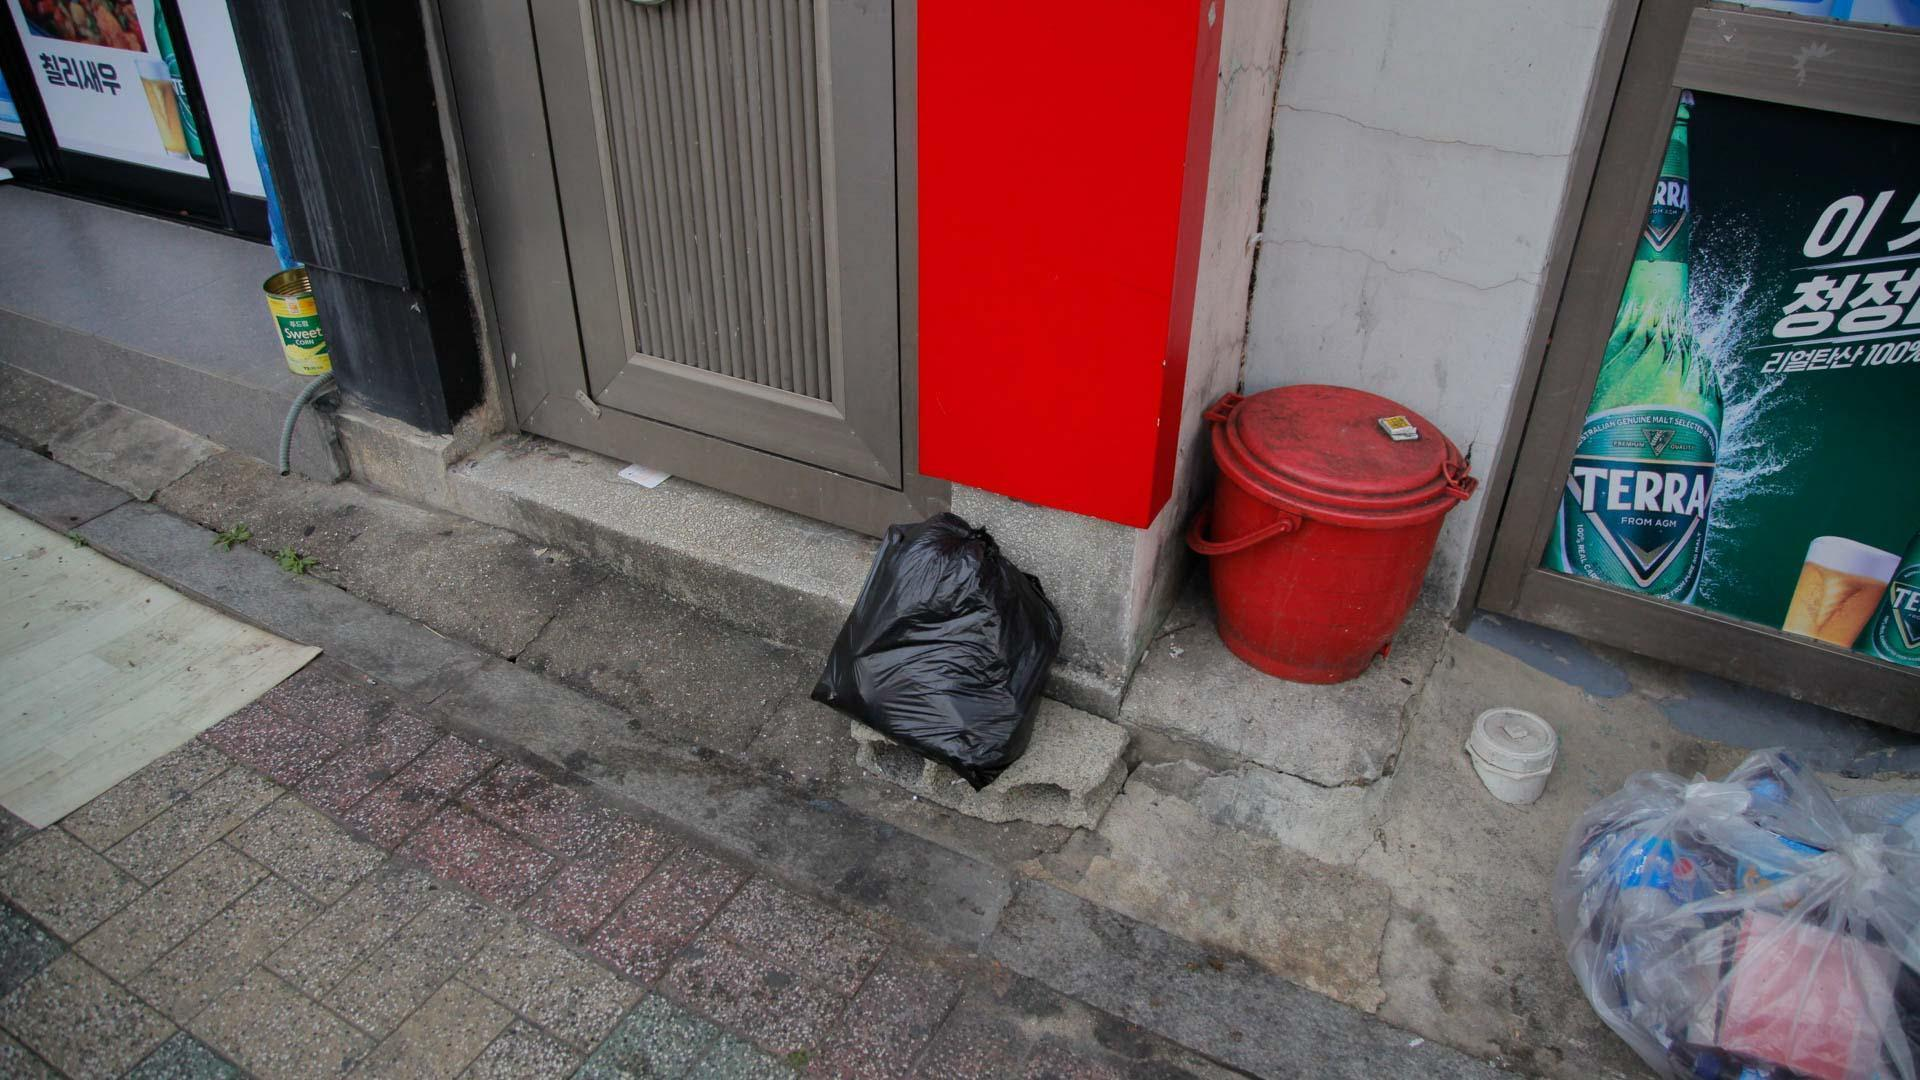black_bag: (789, 505, 1067, 800)
white_bag: (1536, 713, 1919, 1079)
